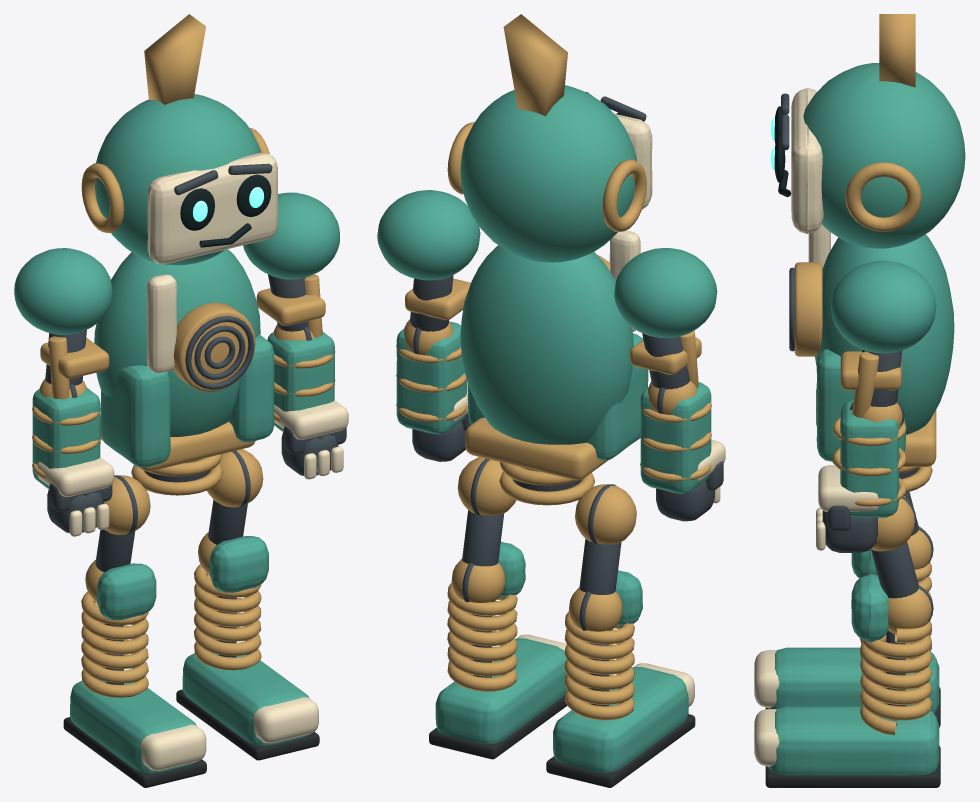
File: spring_duelist.t3.glb
The picture shows the model from 3 angles, left to right: view 1: azimuth 30°, elevation 25°; view 2: azimuth 150°, elevation 25°; view 3: azimuth 270°, elevation 25°; orthographic projection. The views are drawn at different scales.
Visible parts, largest first — view 1: slot_torso__clay_duelist_jade__clay, slot_head__clay_duelist_jade__clay, slot_legR__clay_duelist_jade__clay, slot_legL__clay_duelist_jade__clay, slot_head__clay_warm_ivory__clay, slot_legR__worn_warm_brass__protected, slot_torso__worn_warm_brass__protected, slot_legL__worn_warm_brass__protected, slot_armL__clay_duelist_jade__clay, slot_head__worn_warm_brass__protected, slot_armR__clay_duelist_jade__clay, armL_elbow__clay_duelist_jade__clay (+25 smaller); view 2: slot_torso__clay_duelist_jade__clay, slot_head__clay_duelist_jade__clay, slot_legL__worn_warm_brass__protected, slot_legR__worn_warm_brass__protected, slot_legL__clay_duelist_jade__clay, slot_legR__clay_duelist_jade__clay, slot_head__worn_warm_brass__protected, slot_armL__clay_duelist_jade__clay, slot_armR__clay_duelist_jade__clay, slot_torso__worn_warm_brass__protected, armL_elbow__clay_duelist_jade__clay, armR_elbow__clay_duelist_jade__clay (+14 smaller); view 3: slot_head__clay_duelist_jade__clay, slot_legR__clay_duelist_jade__clay, slot_torso__clay_duelist_jade__clay, slot_legR__worn_warm_brass__protected, slot_armR__clay_duelist_jade__clay, slot_legL__clay_duelist_jade__clay, slot_head__worn_warm_brass__protected, slot_torso__worn_warm_brass__protected, armR_elbow__clay_duelist_jade__clay, slot_head__clay_warm_ivory__clay, slot_armR__worn_warm_brass__protected, slot_legR__charcoal_rubber__protected (+13 smaller).
Part boxes in pixels (bbox=[...]): slot_torso__clay_duelist_jade__clay: bbox=[94, 249, 274, 467]; slot_head__clay_duelist_jade__clay: bbox=[95, 94, 260, 265]; slot_legR__clay_duelist_jade__clay: bbox=[182, 536, 309, 745]; slot_legL__clay_duelist_jade__clay: bbox=[70, 563, 196, 773]; slot_head__clay_warm_ivory__clay: bbox=[147, 153, 278, 263]; slot_legR__worn_warm_brass__protected: bbox=[194, 449, 263, 670]; slot_torso__worn_warm_brass__protected: bbox=[100, 302, 255, 495]; slot_legL__worn_warm_brass__protected: bbox=[81, 475, 150, 697]; slot_armL__clay_duelist_jade__clay: bbox=[14, 248, 112, 334]; slot_head__worn_warm_brass__protected: bbox=[81, 14, 269, 232]; slot_armR__clay_duelist_jade__clay: bbox=[243, 192, 339, 279]; armL_elbow__clay_duelist_jade__clay: bbox=[32, 387, 100, 489]; slot_torso__clay_duelist_jade__clay: bbox=[460, 245, 648, 460]; slot_head__clay_duelist_jade__clay: bbox=[460, 85, 636, 262]; slot_legL__worn_warm_brass__protected: bbox=[564, 484, 636, 720]; slot_legR__worn_warm_brass__protected: bbox=[447, 457, 517, 691]; slot_legL__clay_duelist_jade__clay: bbox=[553, 570, 688, 772]; slot_legR__clay_duelist_jade__clay: bbox=[435, 541, 567, 744]; slot_head__worn_warm_brass__protected: bbox=[447, 14, 646, 231]; slot_armL__clay_duelist_jade__clay: bbox=[614, 248, 717, 337]; slot_armR__clay_duelist_jade__clay: bbox=[377, 190, 480, 280]; slot_torso__worn_warm_brass__protected: bbox=[465, 255, 609, 505]; armL_elbow__clay_duelist_jade__clay: bbox=[640, 382, 711, 493]; armR_elbow__clay_duelist_jade__clay: bbox=[396, 321, 467, 434]; slot_head__clay_duelist_jade__clay: bbox=[803, 63, 965, 248]; slot_legR__clay_duelist_jade__clay: bbox=[768, 574, 939, 775]; slot_torso__clay_duelist_jade__clay: bbox=[815, 234, 954, 461]; slot_legR__worn_warm_brass__protected: bbox=[859, 496, 932, 735]; slot_armR__clay_duelist_jade__clay: bbox=[831, 260, 936, 353]; slot_legL__clay_duelist_jade__clay: bbox=[768, 549, 939, 712]; slot_head__worn_warm_brass__protected: bbox=[845, 14, 921, 232]; slot_torso__worn_warm_brass__protected: bbox=[794, 262, 936, 492]; armR_elbow__clay_duelist_jade__clay: bbox=[840, 399, 898, 517]; slot_head__clay_warm_ivory__clay: bbox=[791, 88, 823, 233]; slot_armR__worn_warm_brass__protected: bbox=[840, 351, 902, 428]; slot_legR__charcoal_rubber__protected: bbox=[765, 746, 940, 787].
Size of the model in its own units: 1.39 by 2.95 by 0.76.
